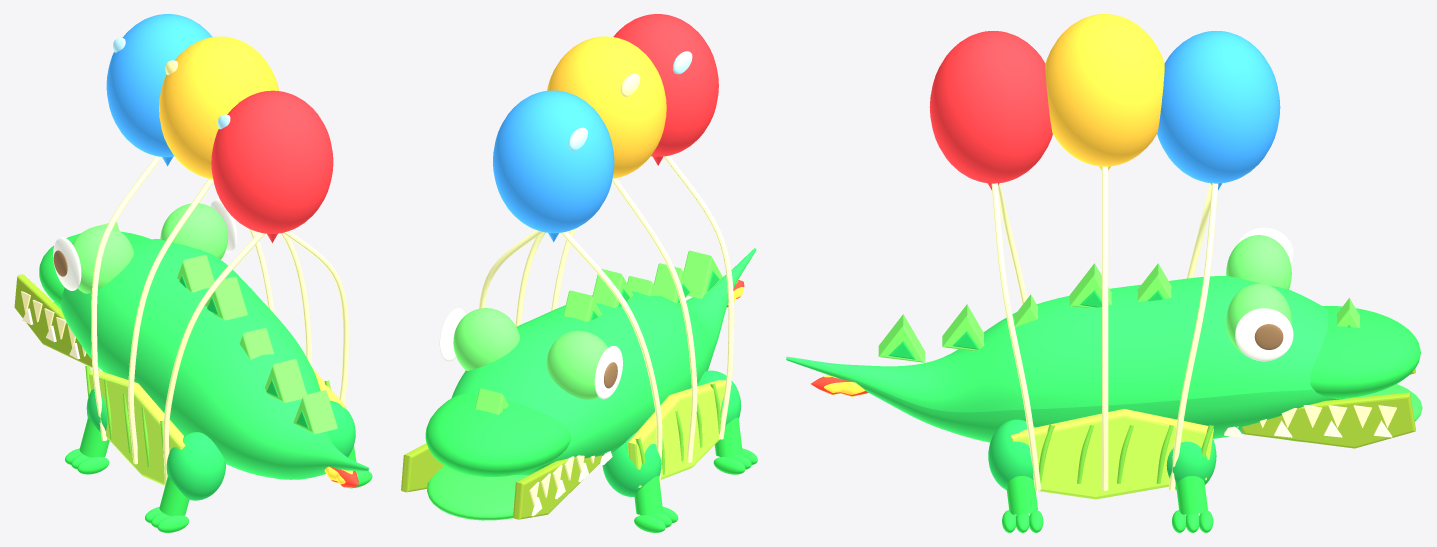
Rendered from ship-16.glb.
3 views of the same model, side by side, from view 1: azimuth 30°, elevation 25°; view 2: azimuth 150°, elevation 25°; view 3: azimuth 270°, elevation 25° (orthographic). The views are drawn at different scales.
Visible parts, largest first — view 1: 벌룬게이터, engine-flame; view 2: 벌룬게이터; view 3: 벌룬게이터, engine-flame.
Part boxes in pixels (<box>): 벌룬게이터: <box>14,14,372,532</box>; engine-flame: <box>324,466,358,487</box>; 벌룬게이터: <box>401,14,757,532</box>; 벌룬게이터: <box>786,14,1422,532</box>; engine-flame: <box>811,375,868,396</box>.
Bounding box in the file's own units: 11.18 × 21.68 × 27.
